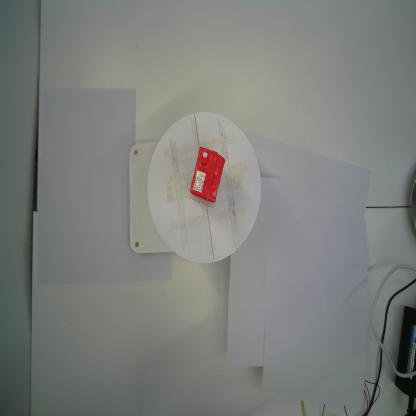Milk: (190, 146, 226, 208)
